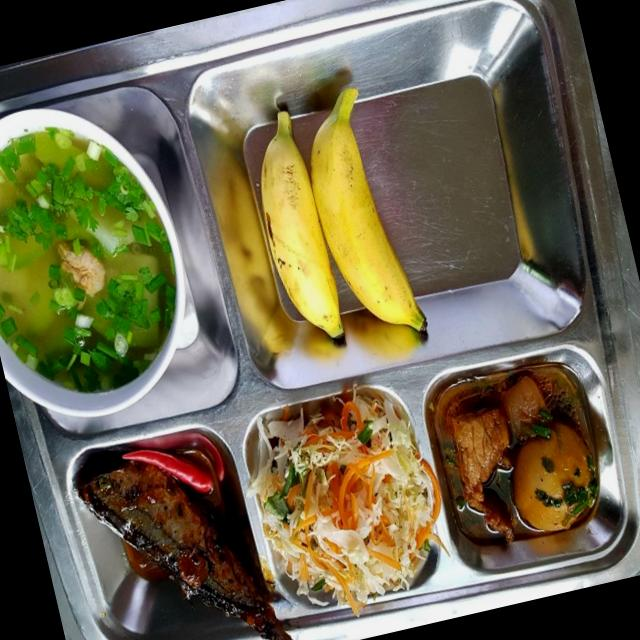ca chien: (78, 461, 292, 640)
canh bau: (0, 123, 178, 395)
chuoi: (311, 89, 424, 329), (261, 112, 344, 338)
kho trung: (449, 375, 598, 541)
